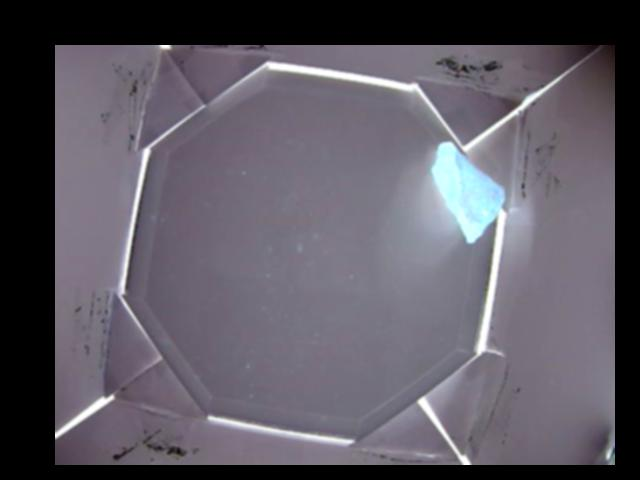Brisk: (432, 142, 504, 240)
